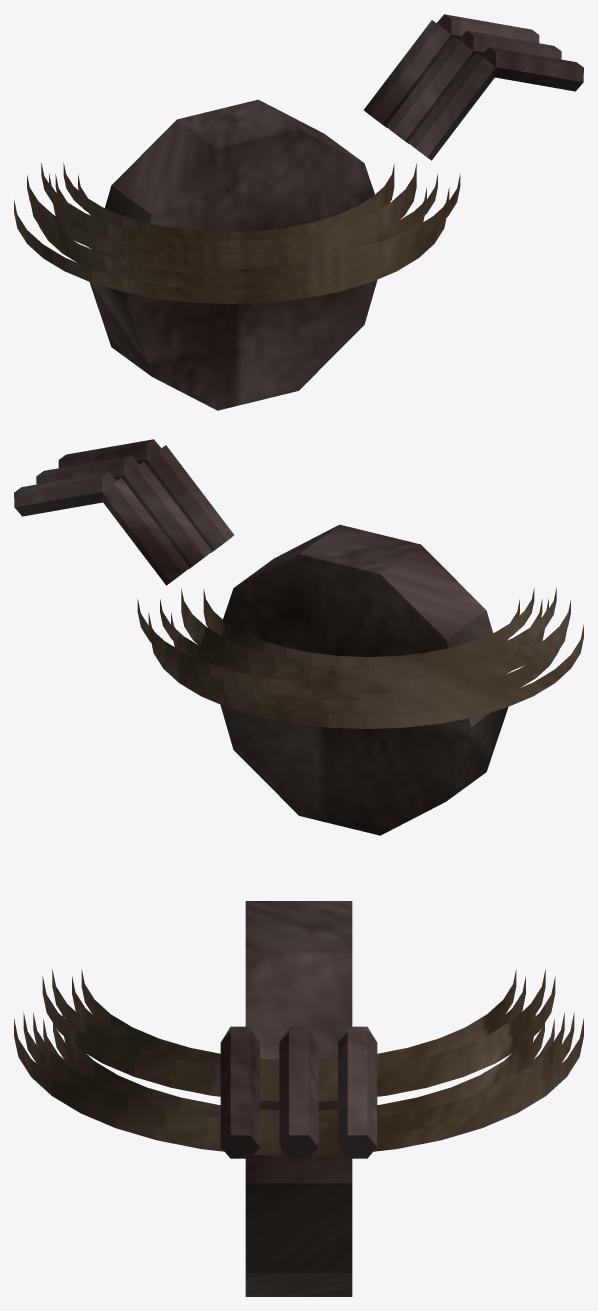
Rendered from 0967_rope_coil_17.glb.
3 views of the same model, one above another, from view 1: azimuth 30°, elevation 25°; view 2: azimuth 150°, elevation 25°; view 3: azimuth 270°, elevation 25° (orthographic). The views are drawn at different scales.
Visible parts, largest first — view 1: wood_dark, wood; view 2: wood_dark, wood; view 3: wood_dark, wood.
Boxes of the visible parts, x1,y1,x2,y2 form: wood_dark: (89,14,583,410); wood: (14,162,460,303); wood_dark: (14,439,508,835); wood: (137,587,583,728); wood_dark: (220,901,377,1296); wood: (14,969,583,1155).
Size of the model in its own units: 1.47 by 0.806 by 1.07.
2 materials, 2 textured.
